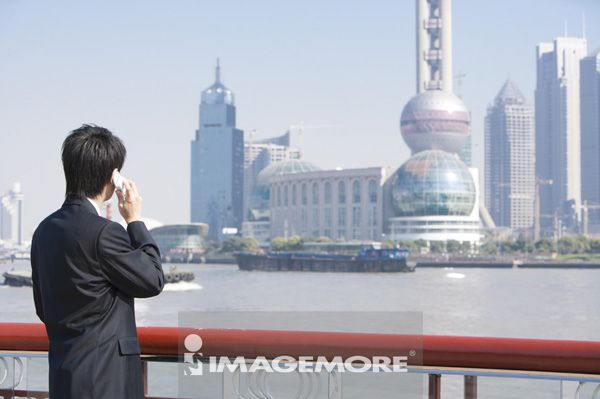phone: (110, 173, 132, 198)
